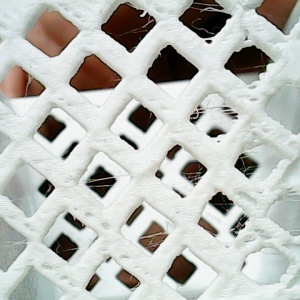3dpstringing: (184, 100, 235, 145), (187, 2, 231, 39), (137, 220, 174, 252), (232, 151, 260, 186), (79, 176, 138, 191), (229, 210, 252, 239), (7, 235, 32, 254), (51, 245, 86, 258), (232, 36, 255, 54), (243, 75, 262, 92)
3dpunderextrusion: (239, 98, 297, 149), (72, 206, 125, 237), (231, 187, 272, 212), (249, 218, 279, 245), (285, 237, 300, 258)
